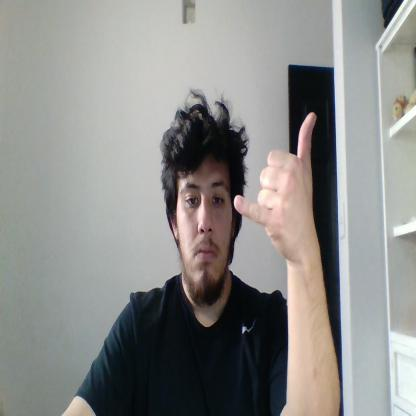Y: (233, 111, 316, 259)
